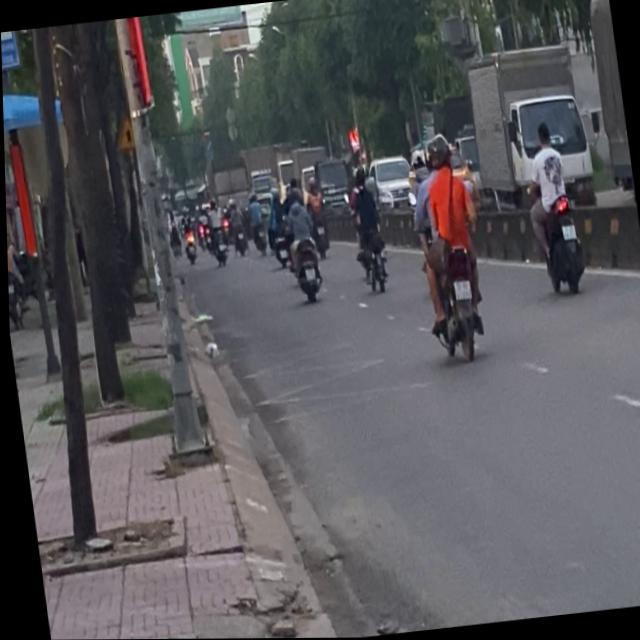helmet: (426, 132, 455, 172)
licenseplate: (402, 128, 498, 366), (517, 116, 587, 297)
motorcyclist: (535, 120, 552, 147)
nohelmet: (452, 279, 471, 301), (560, 222, 576, 237)
